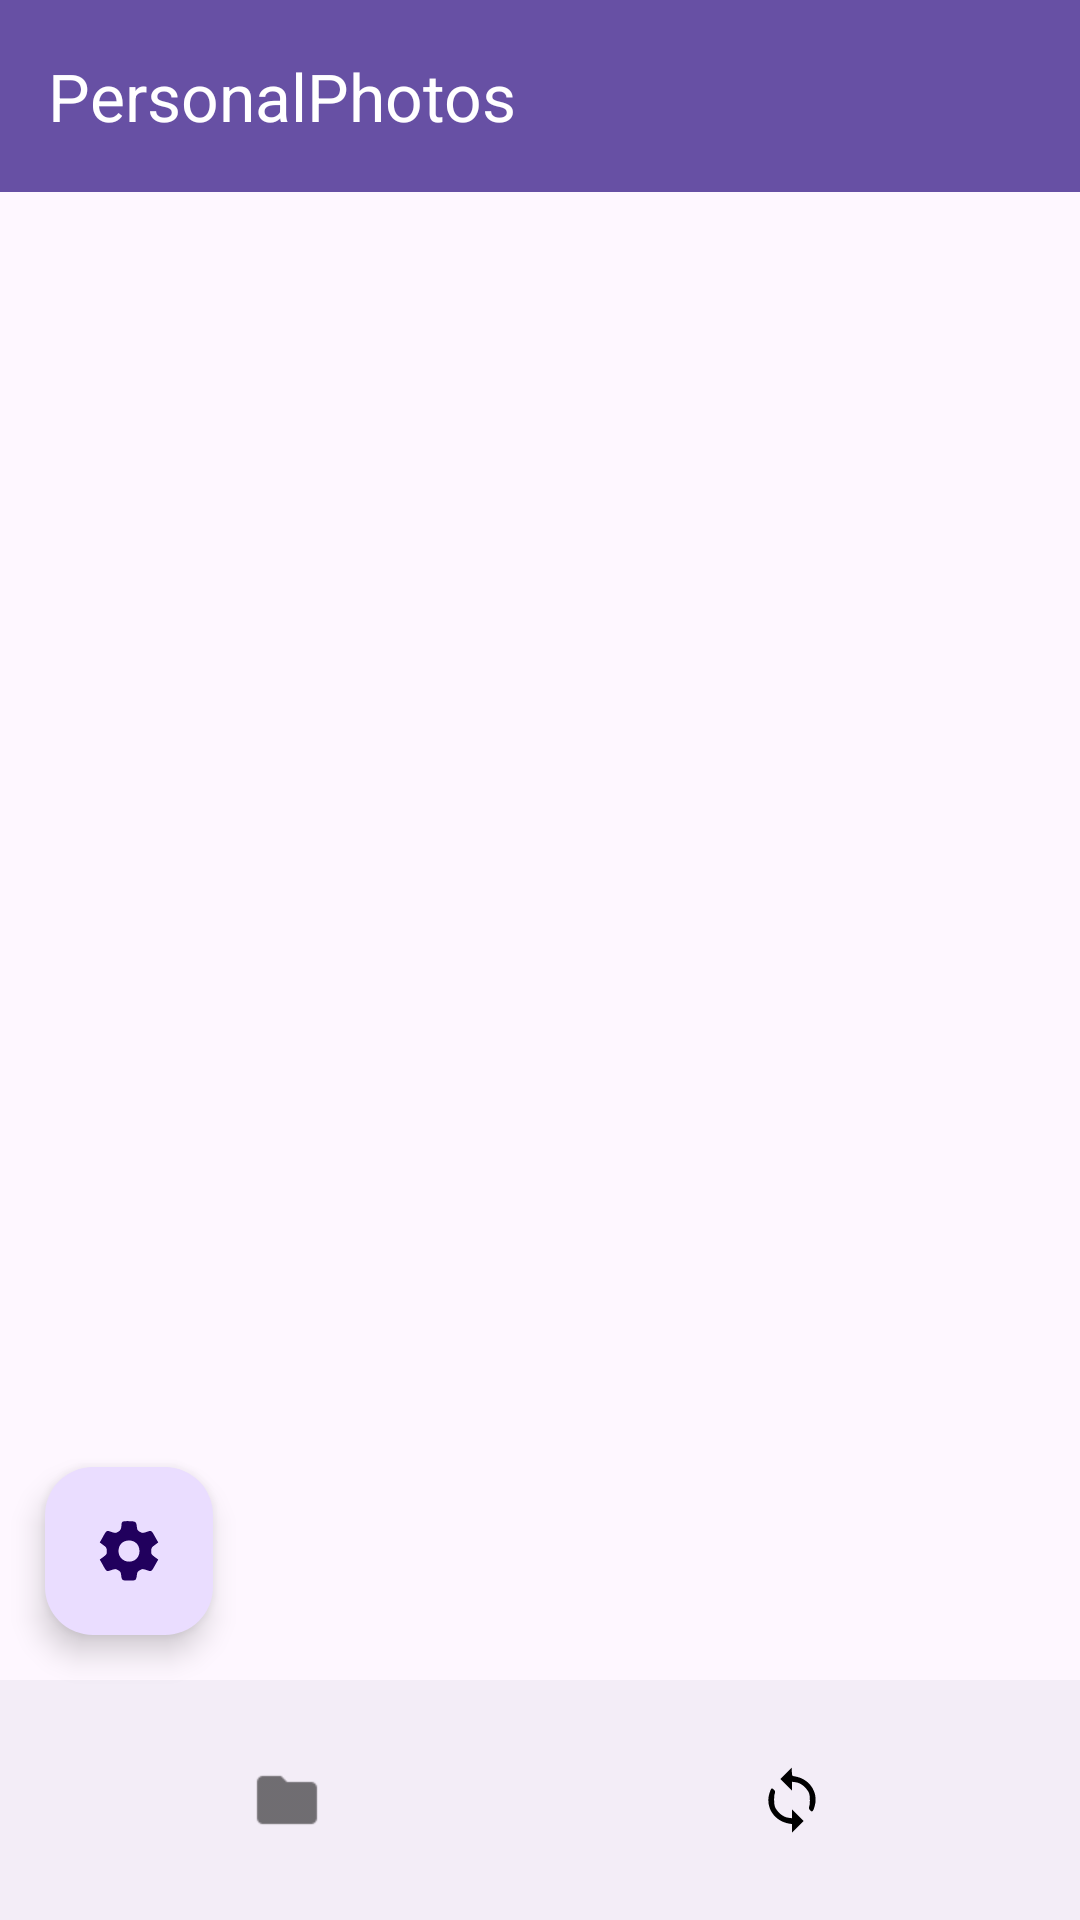

Named icons in this screenshot (1080*1920) and their centers, [x,y]:
settings: [129,1551]
